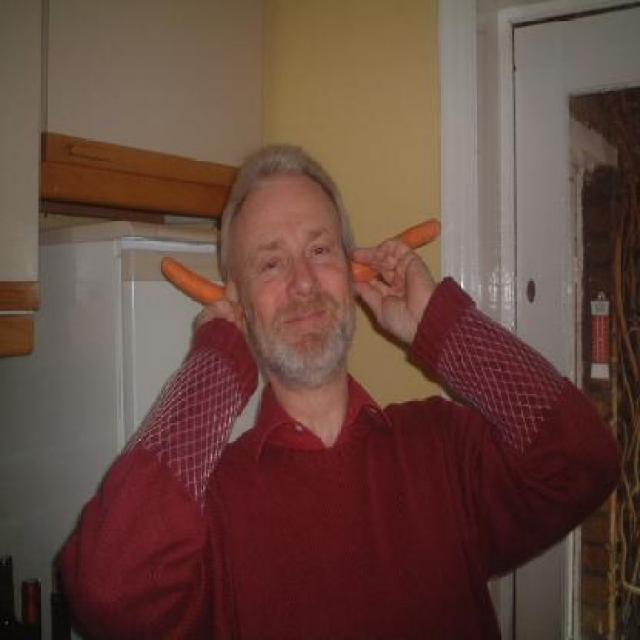Carrot: (158, 250, 246, 322), (348, 215, 442, 280)
